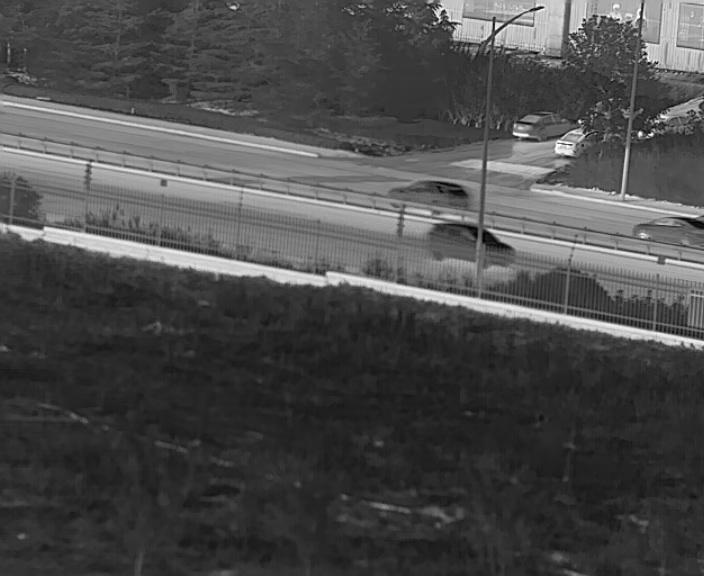vehicle: (425, 221, 517, 267), (389, 179, 472, 212), (633, 215, 704, 247), (511, 110, 569, 141), (555, 127, 587, 156)
